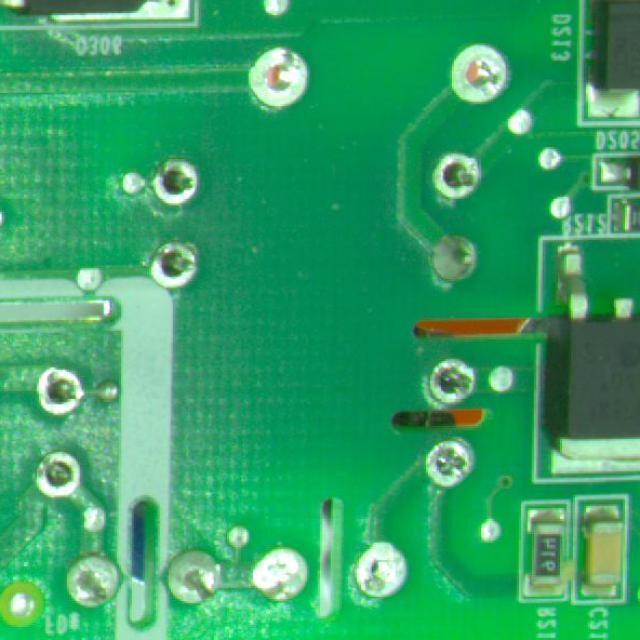Insufficient solder: (345, 514, 436, 604), (241, 41, 321, 116), (246, 534, 314, 603), (30, 356, 99, 418), (452, 38, 514, 106), (142, 235, 206, 298), (144, 144, 208, 207), (30, 442, 92, 505), (416, 431, 480, 491), (430, 138, 488, 204), (423, 352, 491, 408)
